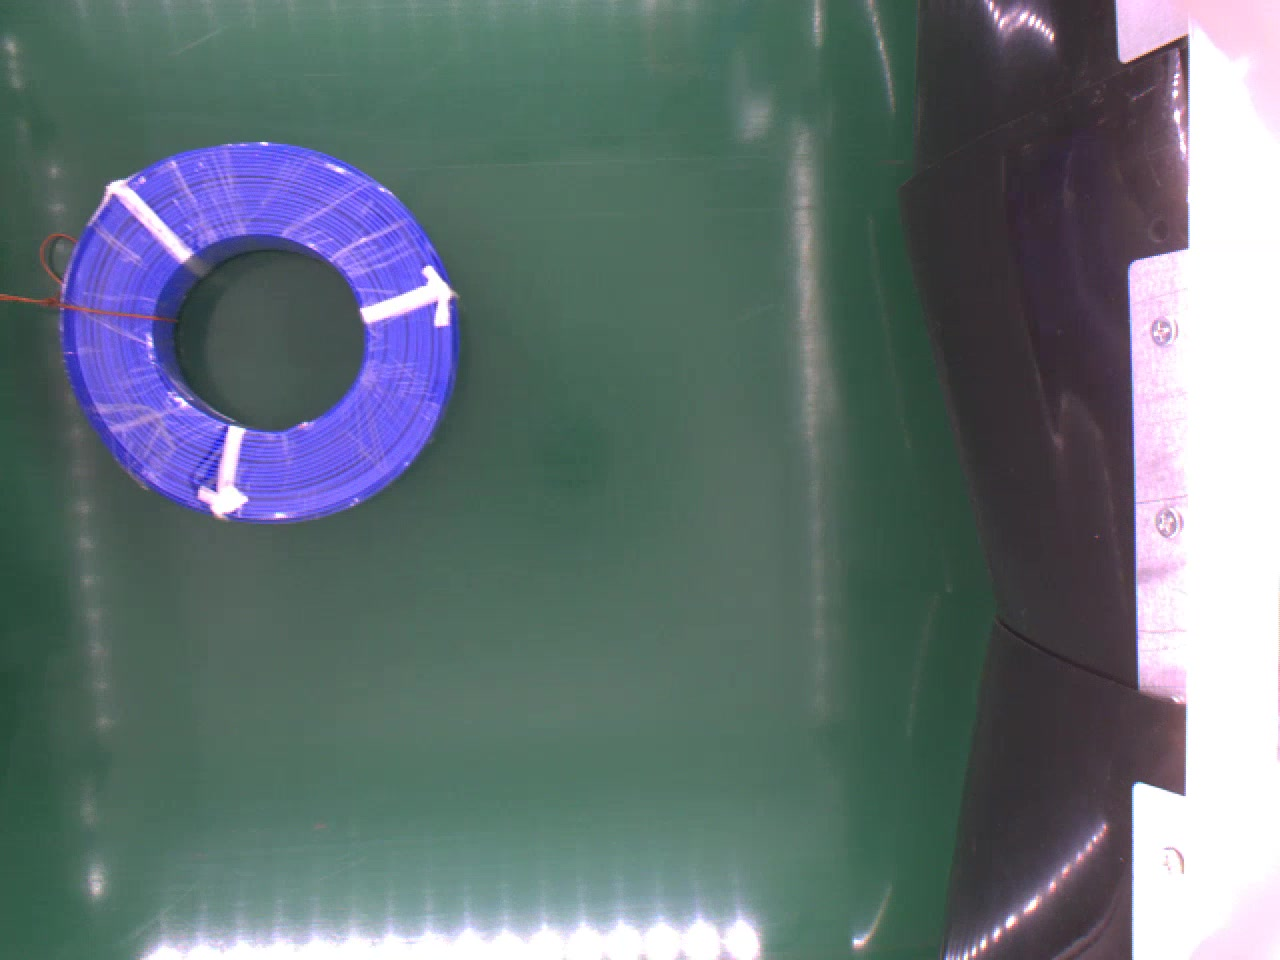blue: (58, 140, 454, 520)
